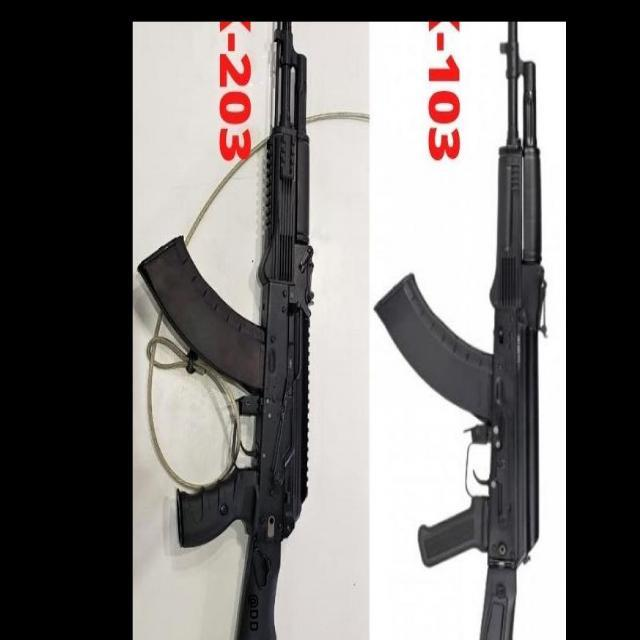weapon: (137, 24, 316, 640), (374, 20, 550, 640)
